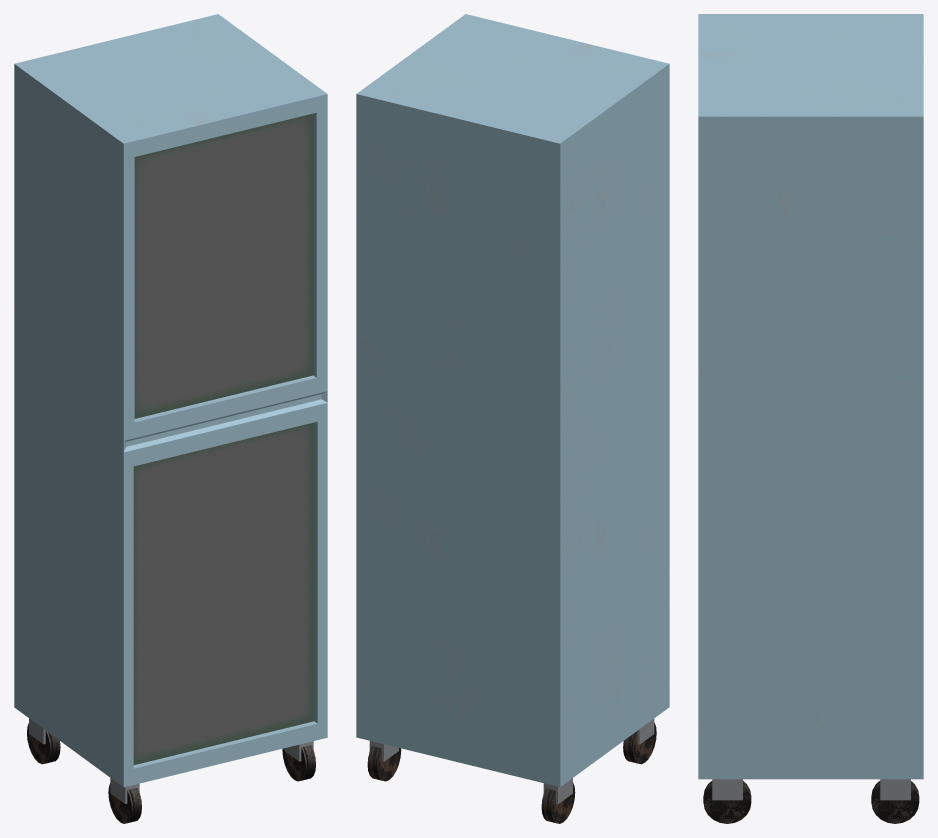
The model's file is Fridge.fbx.
3 views of the same model, side by side, from view 1: azimuth 30°, elevation 25°; view 2: azimuth 150°, elevation 25°; view 3: azimuth 270°, elevation 25° (orthographic). The views are drawn at different scales.
Visible parts, largest first — view 1: Fridge, Glass, Tire (×3); view 2: Fridge, Tire (×3); view 3: Fridge, Tire (×2), TireHolder3, TireHolder4.
Part boxes in pixels (x1,y1,x2,y2): Fridge: [14, 14, 327, 787]; Glass: [133, 113, 314, 764]; Tire (×3): [27, 723, 315, 823]; Fridge: [356, 14, 669, 786]; Tire (×3): [367, 722, 656, 823]; Fridge: [698, 14, 923, 779]; Tire (×2): [703, 780, 919, 823]; TireHolder3: [880, 779, 910, 800]; TireHolder4: [712, 779, 742, 800].
Size of the model in its own units: 1.82 by 5.91 by 1.69.
Materials: 4 (4 with a texture image).
